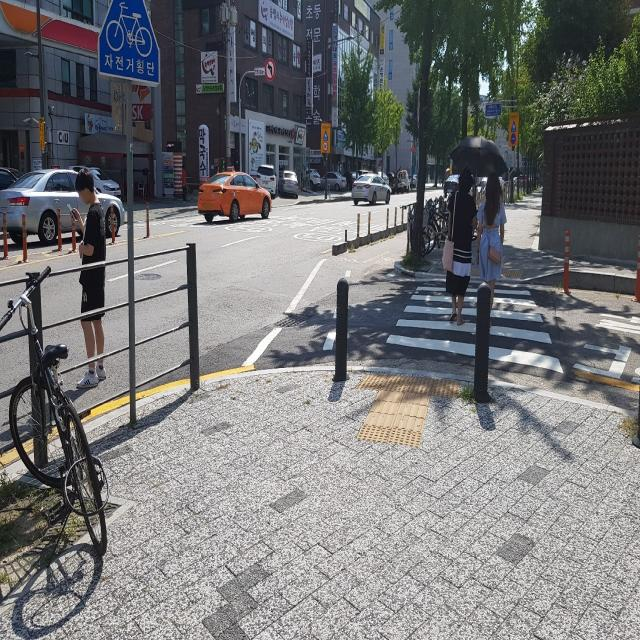횡단보도: (386, 286, 564, 374)
